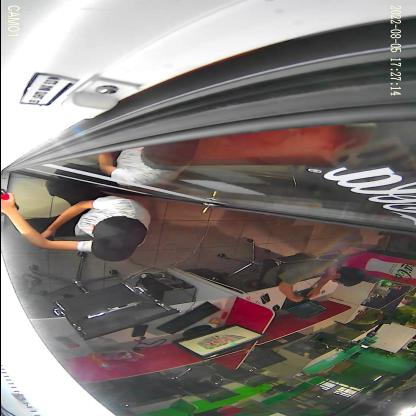red: (0, 188, 19, 216)
